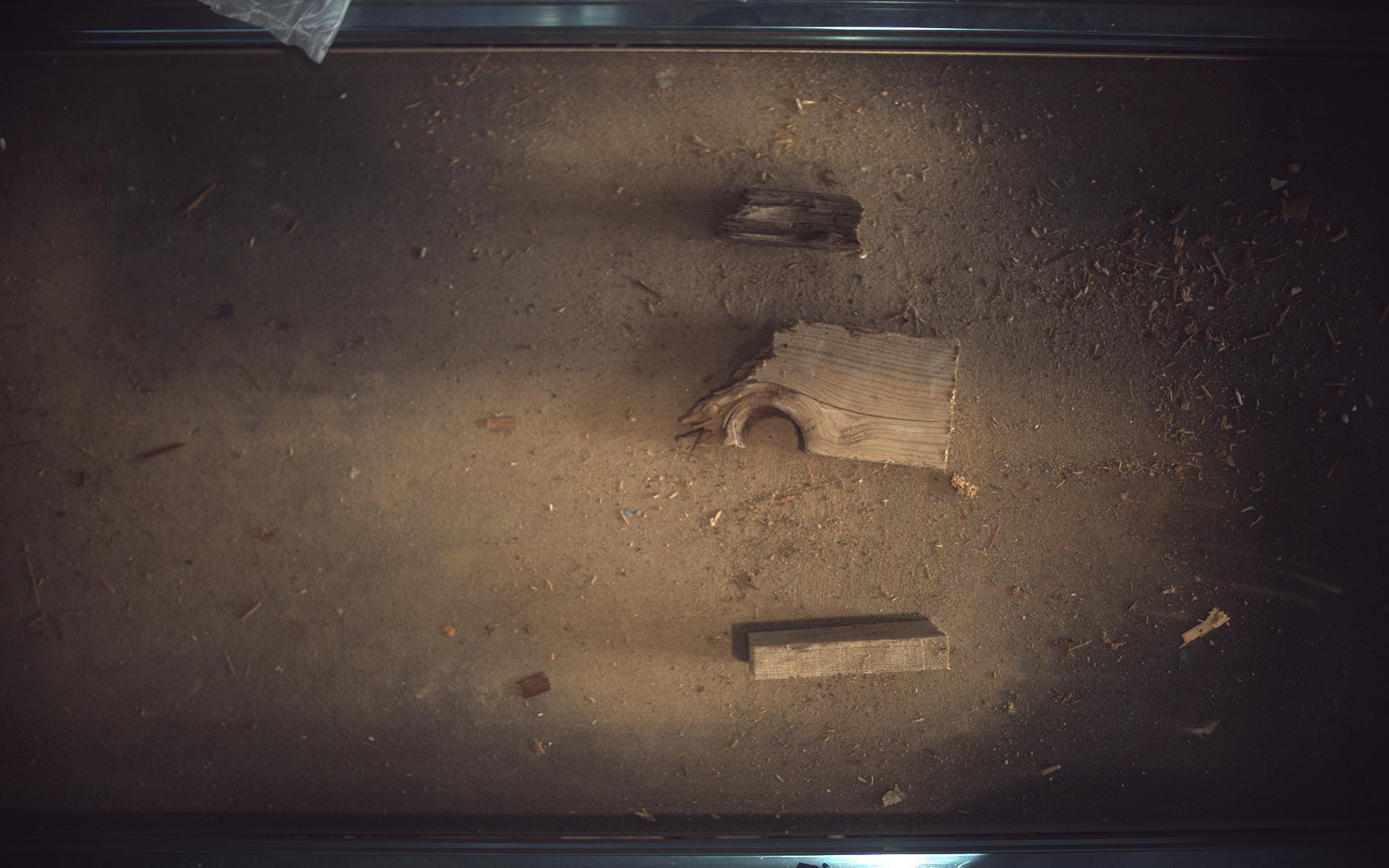wood: (682, 321, 962, 470), (749, 618, 951, 681), (719, 187, 865, 250)
